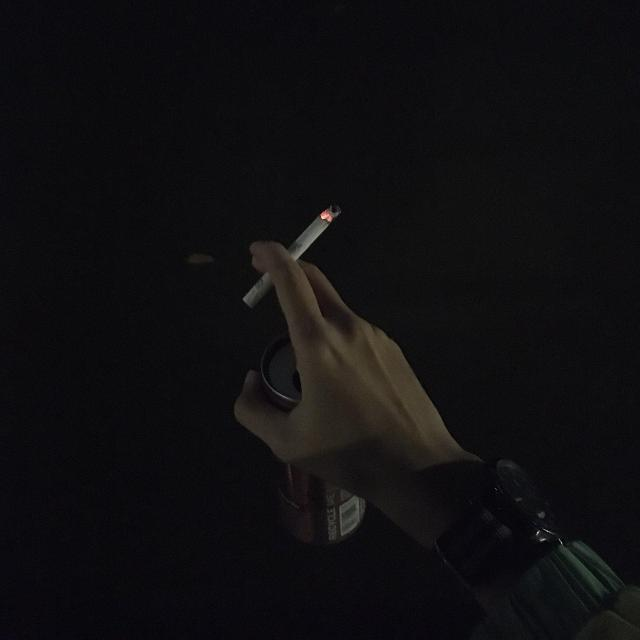rokok: (240, 200, 340, 314)
